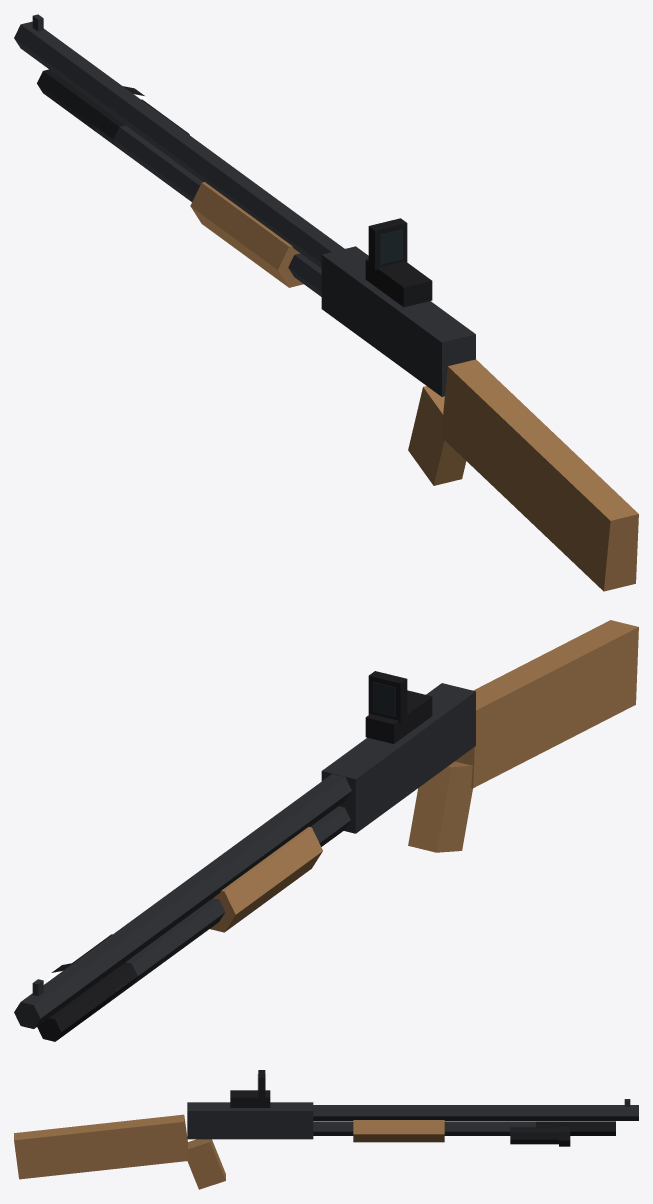
File: w_shotgun.glb
The picture shows the model from 3 angles, top to bottom: view 1: azimuth 30°, elevation 25°; view 2: azimuth 150°, elevation 25°; view 3: azimuth 270°, elevation 25°; orthographic projection. The views are drawn at different scales.
Visible parts, largest first — view 1: w_shotgun, w_shotgun_att_scope, w_shotgun_att_extmag; view 2: w_shotgun, w_shotgun_att_scope, w_shotgun_att_extmag; view 3: w_shotgun, w_shotgun_att_flashlight, w_shotgun_att_scope, w_shotgun_att_extmag.
Part boxes in pixels (x1,y1,x2,y2): w_shotgun: (14, 14, 638, 591); w_shotgun_att_scope: (365, 218, 432, 307); w_shotgun_att_extmag: (37, 69, 125, 146); w_shotgun: (14, 620, 638, 1028); w_shotgun_att_scope: (365, 671, 432, 743); w_shotgun_att_extmag: (37, 962, 137, 1041); w_shotgun: (14, 1099, 638, 1189); w_shotgun_att_flashlight: (510, 1125, 570, 1146); w_shotgun_att_scope: (230, 1070, 270, 1107); w_shotgun_att_extmag: (536, 1121, 615, 1135).
Bounding box in the file's own units: 0.074 × 0.2161 × 1.09.
